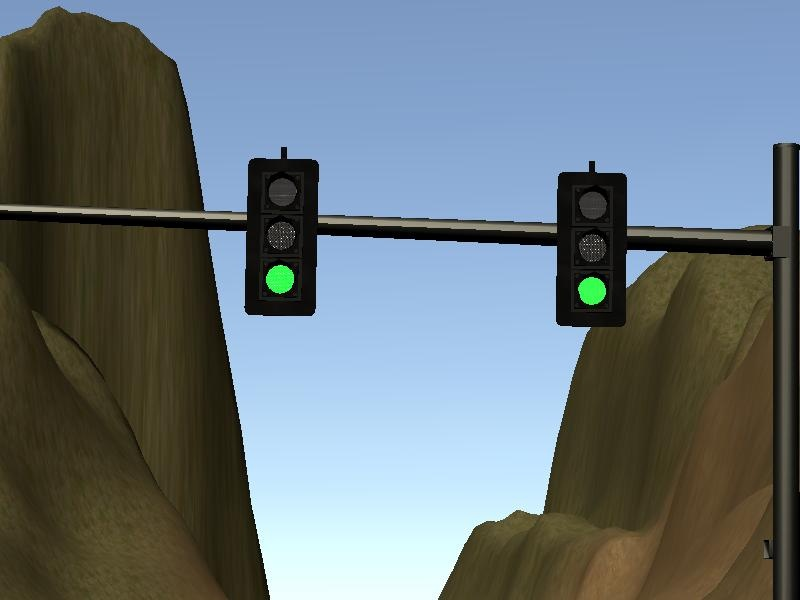traffic_light_green: (1, 141, 776, 331)
